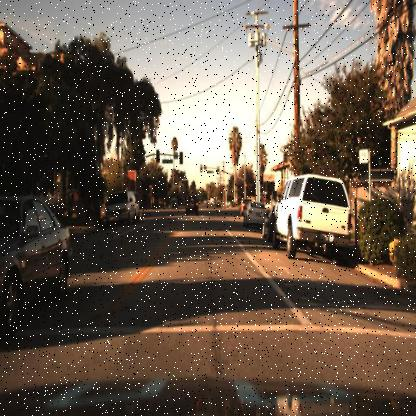car: (0, 191, 74, 336), (271, 170, 354, 255), (103, 192, 140, 226), (241, 200, 268, 230), (179, 194, 200, 221), (259, 201, 272, 244), (183, 193, 199, 216)
trafficLight-Red: (242, 179, 250, 193), (147, 181, 154, 195), (215, 164, 221, 178), (199, 162, 204, 176)
